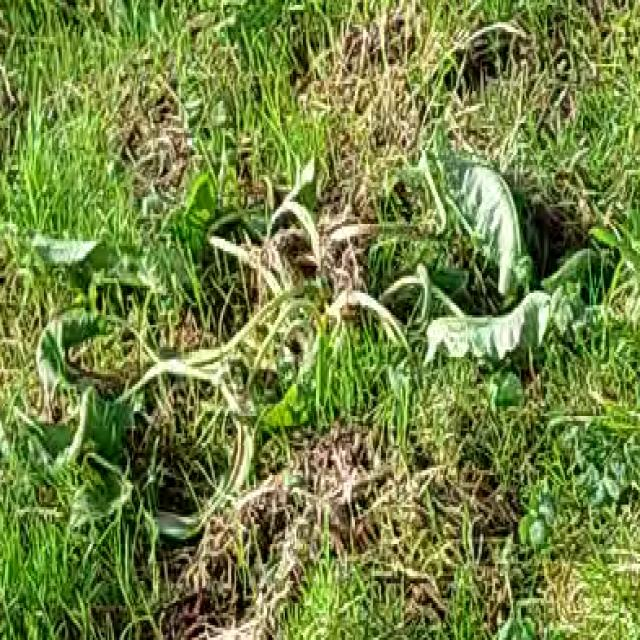organic waste: (15, 146, 601, 556)
